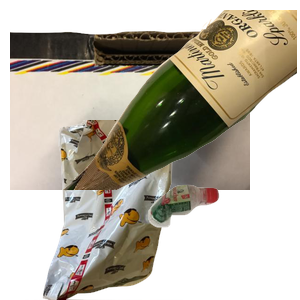cardboard: (10, 29, 250, 209)
glass: (60, 10, 300, 190)
plastic: (146, 182, 300, 300)
trash: (25, 120, 198, 300)
